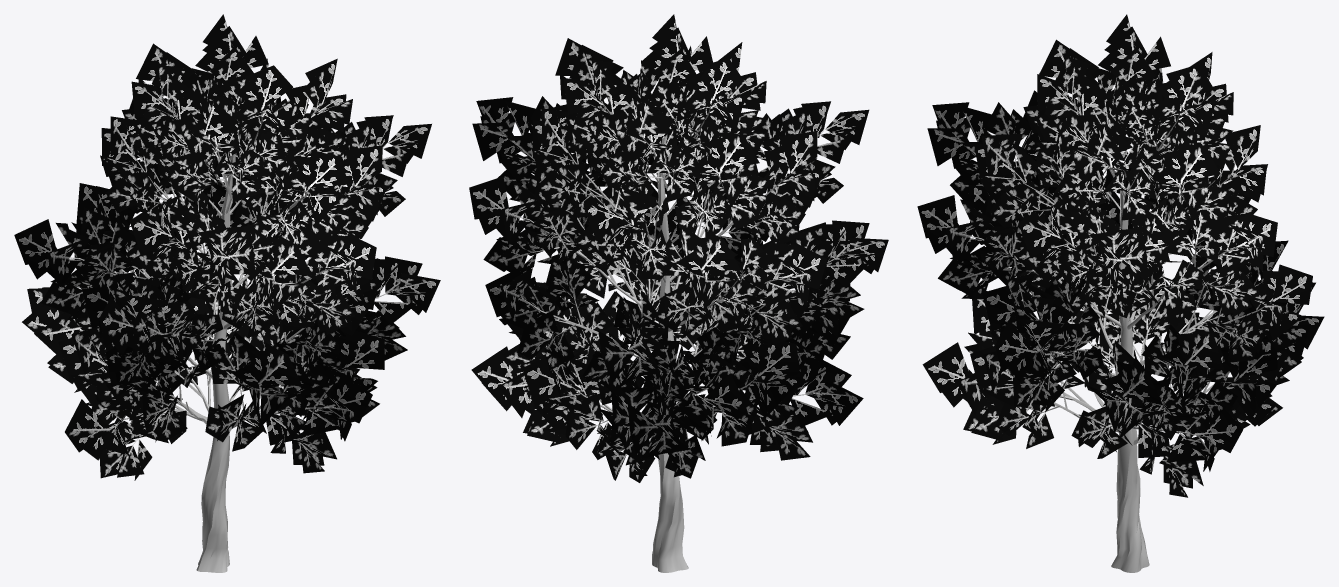
Rendered from tree_camphor.glb.
The picture shows the model from 3 angles, left to right: view 1: azimuth 30°, elevation 25°; view 2: azimuth 150°, elevation 25°; view 3: azimuth 270°, elevation 25°; orthographic projection.
Visible parts, largest first — view 1: tree_camphor; view 2: tree_camphor; view 3: tree_camphor.
Part boxes in pixels (x1,y1,x2,y2): tree_camphor: [14, 14, 440, 572]; tree_camphor: [469, 14, 888, 572]; tree_camphor: [917, 14, 1324, 572].
Size of the model in its own units: 6.47 by 8.5 by 5.99.
Materials: 1 (1 with a texture image).
